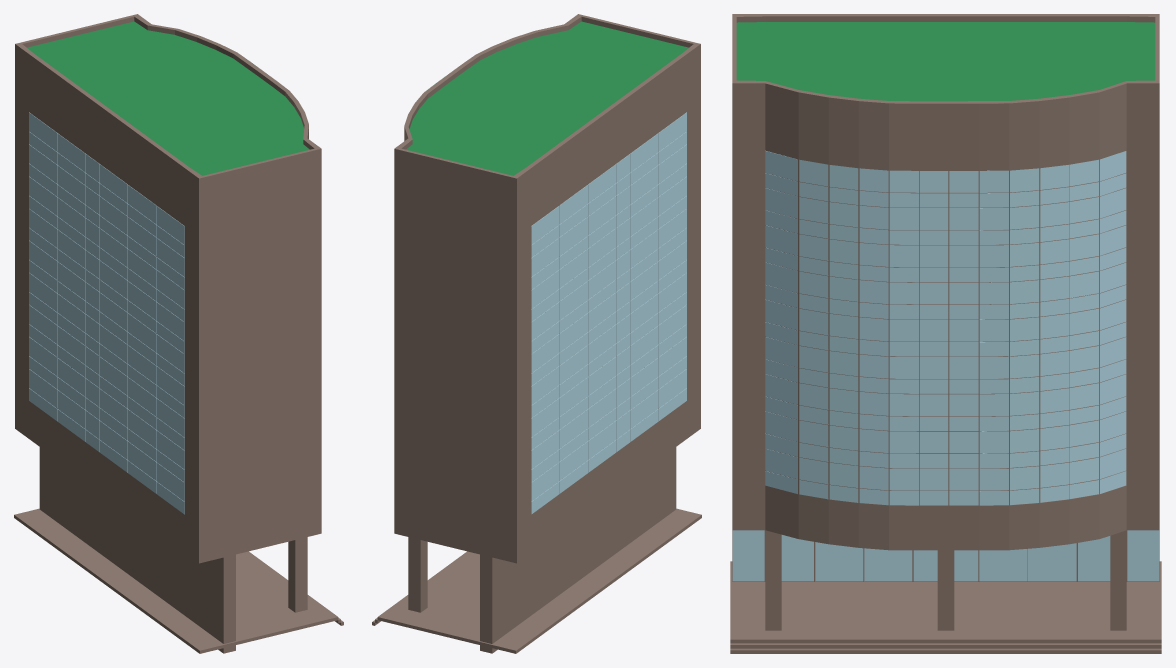
File: 5 between 6 building_3.glb
3 renders of one model, left to right at view 1: azimuth 30°, elevation 25°; view 2: azimuth 150°, elevation 25°; view 3: azimuth 270°, elevation 25°, orthographic. The views are drawn at different scales.
Parts seen in each view (by area): view 1: Cube.004, stairs, back-windows-4, back-windows-9, back-windows-2, back-windows-3, back-windows-7, back-windows-11, back-windows-5, back-windows-6, back-windows-10, back-windows-8 (+10 smaller); view 2: Cube.004, stairs, back-windows-3, back-windows-8, back-windows-1, back-windows-5, back-windows-9, back-windows-10, back-windows-2, back-windows-6, back-windows-7, back-windows-4 (+10 smaller); view 3: Cube.004, stairs, right-windows-12, right-windows-5, right-windows-8, right-windows-10, right-windows-11, right-windows-6, right-windows-4, right-windows-9, right-windows-3, right-windows-2 (+15 smaller).
Boxes of the visible parts, box(x1,y1,x2,y2) form: Cube.004: box(15, 14, 321, 563); stairs: box(14, 508, 343, 653); back-windows-4: box(71, 143, 85, 441); back-windows-9: box(142, 195, 156, 493); back-windows-2: box(43, 122, 57, 420); back-windows-3: box(57, 133, 71, 431); back-windows-7: box(113, 174, 127, 472); back-windows-11: box(170, 216, 184, 514); back-windows-5: box(85, 154, 99, 451); back-windows-6: box(99, 164, 113, 462); back-windows-10: box(156, 205, 170, 503); back-windows-8: box(128, 185, 141, 482); Cube.004: box(394, 14, 700, 563); stairs: box(372, 508, 701, 653); back-windows-3: box(559, 195, 573, 493); back-windows-8: box(630, 143, 644, 441); back-windows-1: box(531, 216, 545, 514); back-windows-5: box(588, 174, 602, 472); back-windows-9: box(644, 133, 658, 431); back-windows-10: box(658, 122, 672, 420); back-windows-2: box(545, 205, 559, 503); back-windows-6: box(602, 164, 616, 462); back-windows-7: box(616, 154, 630, 451); back-windows-4: box(574, 185, 587, 482); Cube.004: box(732, 14, 1159, 550); stairs: box(730, 561, 1161, 653); right-windows-12: box(765, 150, 797, 493); right-windows-5: box(979, 170, 1008, 505); right-windows-8: box(889, 170, 918, 505); right-windows-10: box(829, 165, 858, 502); right-windows-11: box(799, 159, 828, 499); right-windows-6: box(949, 171, 978, 505); right-windows-4: box(1010, 168, 1039, 504); right-windows-9: box(859, 168, 888, 504); right-windows-3: box(1040, 165, 1069, 502); right-windows-2: box(1069, 159, 1098, 498).
Size of the model in its own units: 51.86 by 150 by 105.
